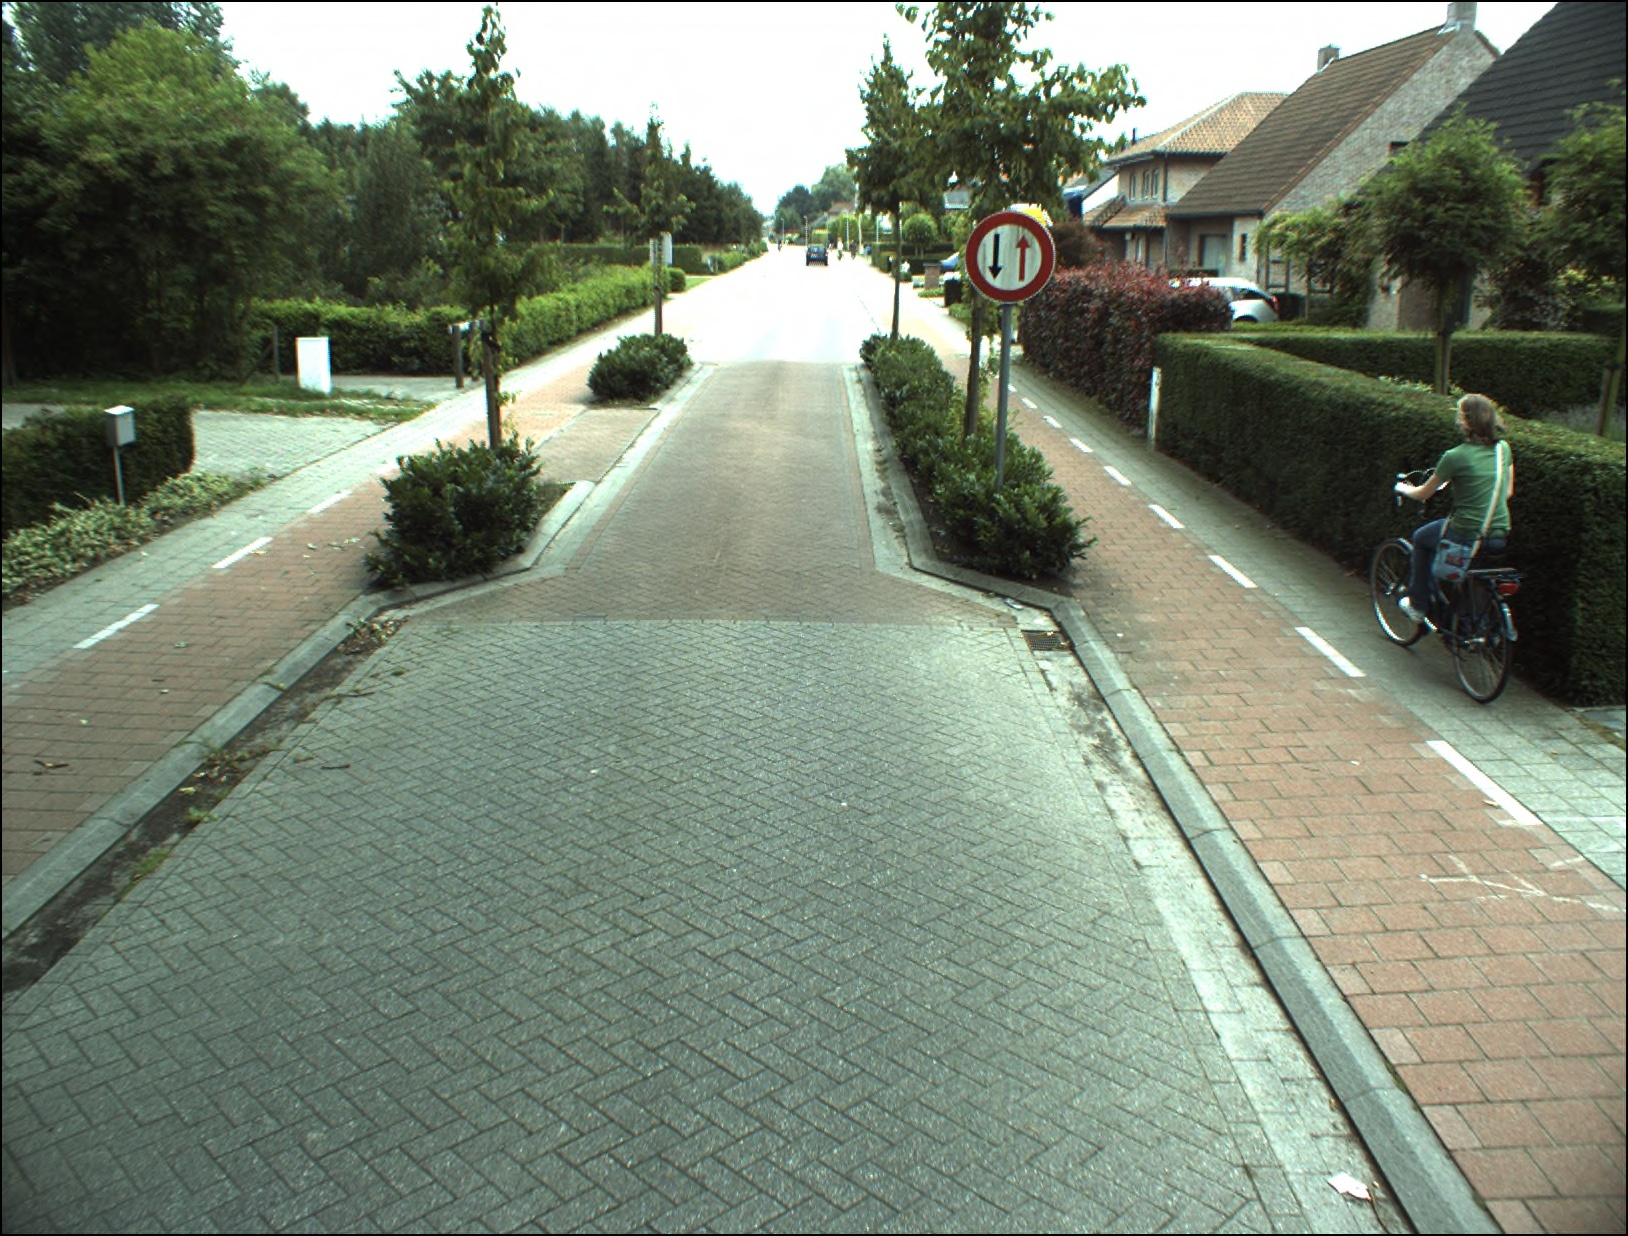roadnarrow2: (966, 212, 1058, 304)
